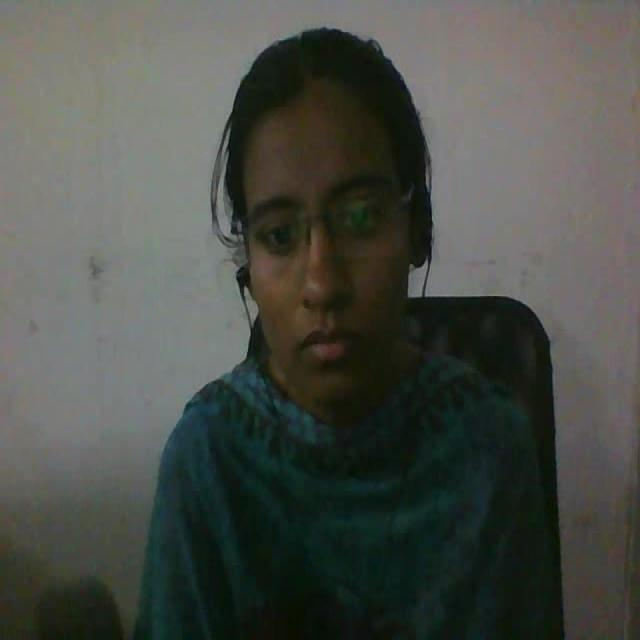Engaged: (193, 14, 441, 452)
